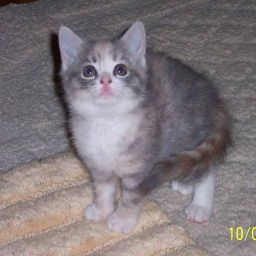cat: (54, 23, 230, 228)
